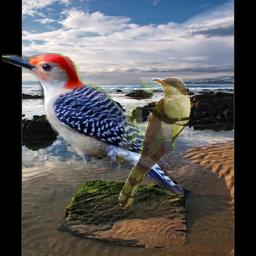Cuckoo: (118, 77, 191, 209)
Woodpecker: (2, 53, 184, 194)
